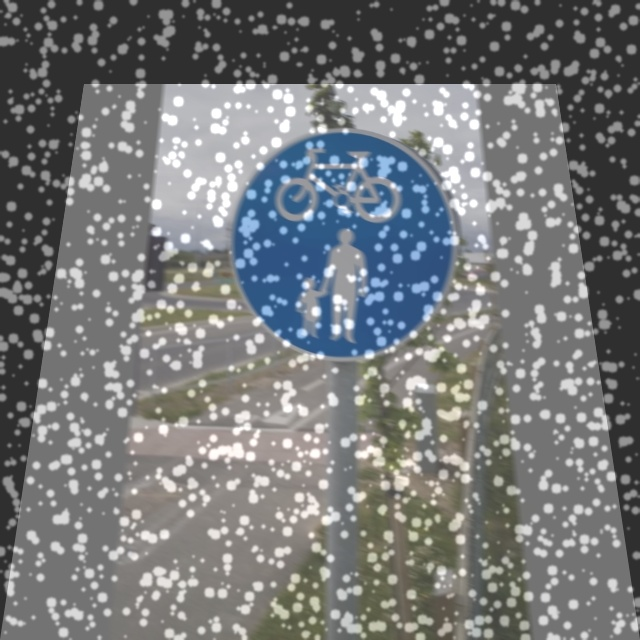Compulsory_Cycle_Track: (230, 127, 469, 349)
